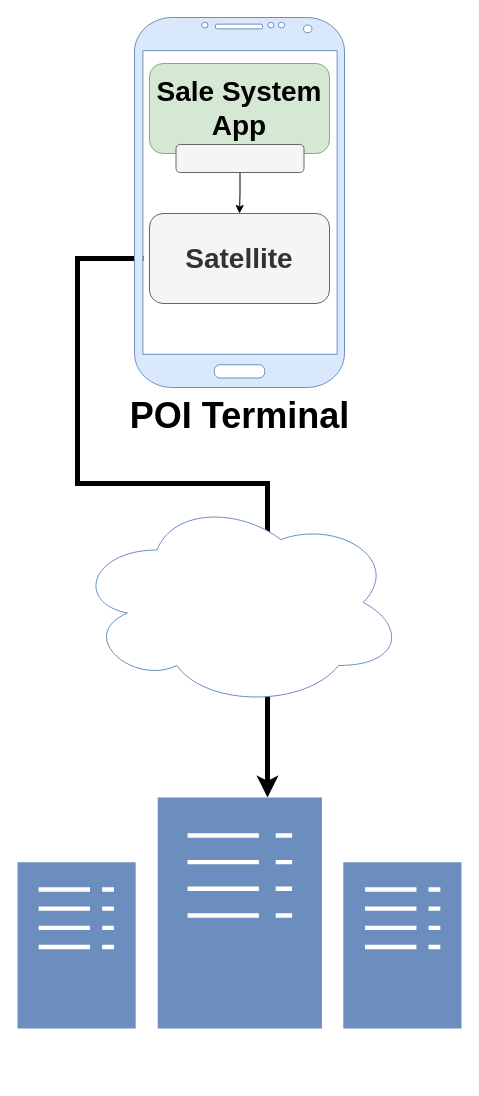
Some shapes in this 479 by 1096 pixel diagram are drawn without their labels. Here are the shapes that lost their labels. From the top down, the box of each, then its label:
(175, 144, 304, 172): Fusion Lib
(16, 796, 462, 1028): DataMesh Unify
